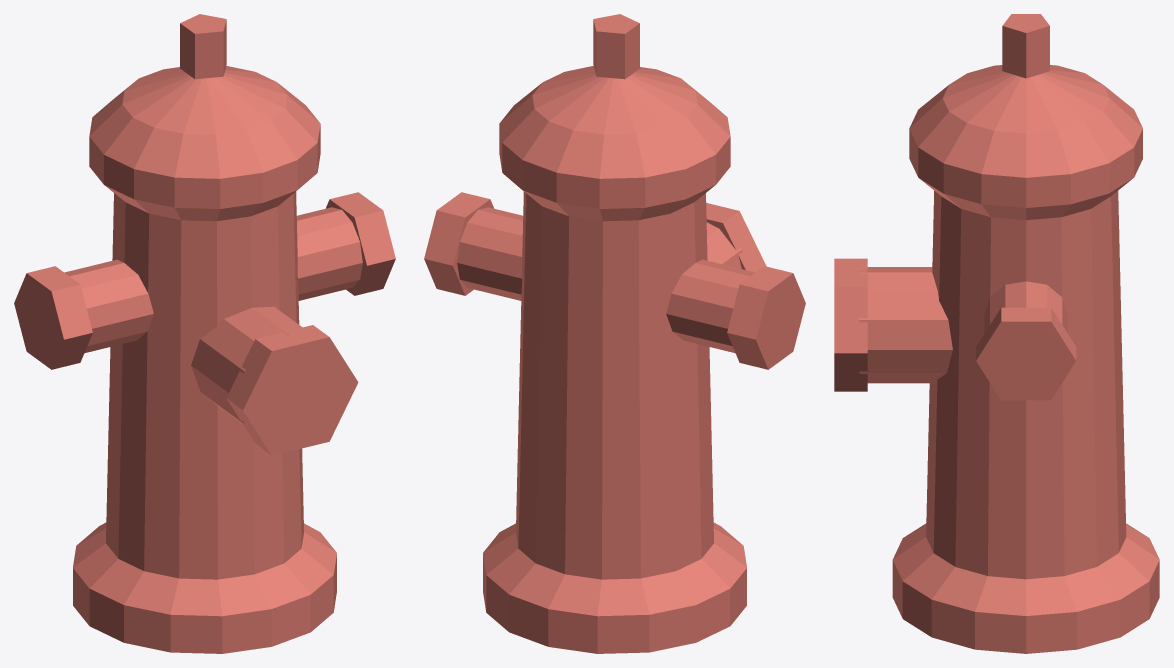
File: hydrant.glb
The picture shows the model from 3 angles, left to right: view 1: azimuth 30°, elevation 25°; view 2: azimuth 150°, elevation 25°; view 3: azimuth 270°, elevation 25°; orthographic projection.
Parts seen in each view (by area): view 1: hydrant_hydrant; view 2: hydrant_hydrant; view 3: hydrant_hydrant.
Part boxes in pixels (left/top/right/bottom): hydrant_hydrant: left=14, top=14, right=395, bottom=653; hydrant_hydrant: left=424, top=14, right=805, bottom=653; hydrant_hydrant: left=834, top=14, right=1159, bottom=653.
Size of the model in its own units: 0.46 by 0.76 by 0.39.
